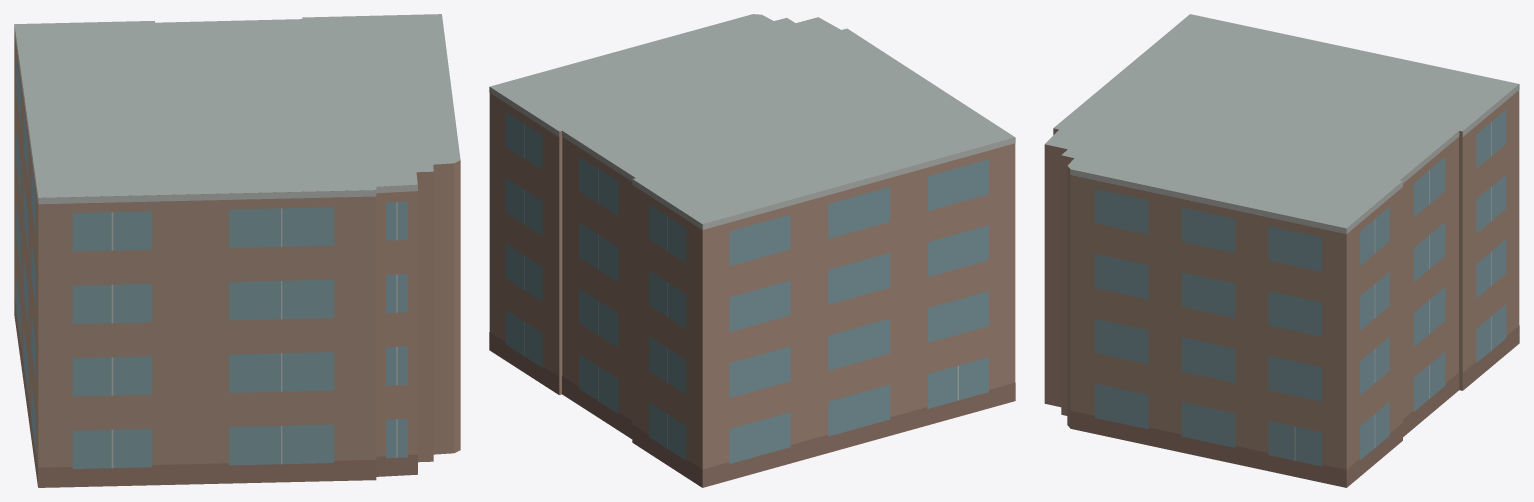
The model's file is survey-upis-32485003.glb.
The picture shows the model from 3 angles, left to right: view 1: azimuth 30°, elevation 25°; view 2: azimuth 150°, elevation 25°; view 3: azimuth 270°, elevation 25°; orthographic projection. The views are drawn at different scales.
Parts seen in each view (by area): view 1: survey-upis-32485003.tmp; view 2: survey-upis-32485003.tmp; view 3: survey-upis-32485003.tmp.
Part boxes in pixels (<box>): survey-upis-32485003.tmp: <box>14,14,460,487</box>; survey-upis-32485003.tmp: <box>489,14,1015,487</box>; survey-upis-32485003.tmp: <box>1044,14,1519,487</box>.
Bounding box in the file's own units: 19.52 × 11.01 × 18.27.
